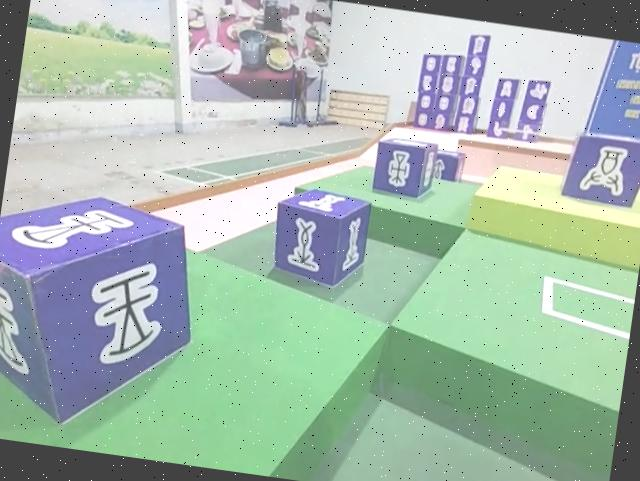R2 Real Blue: (0, 174, 207, 427), (265, 182, 372, 291), (556, 128, 640, 215), (373, 134, 442, 203)
